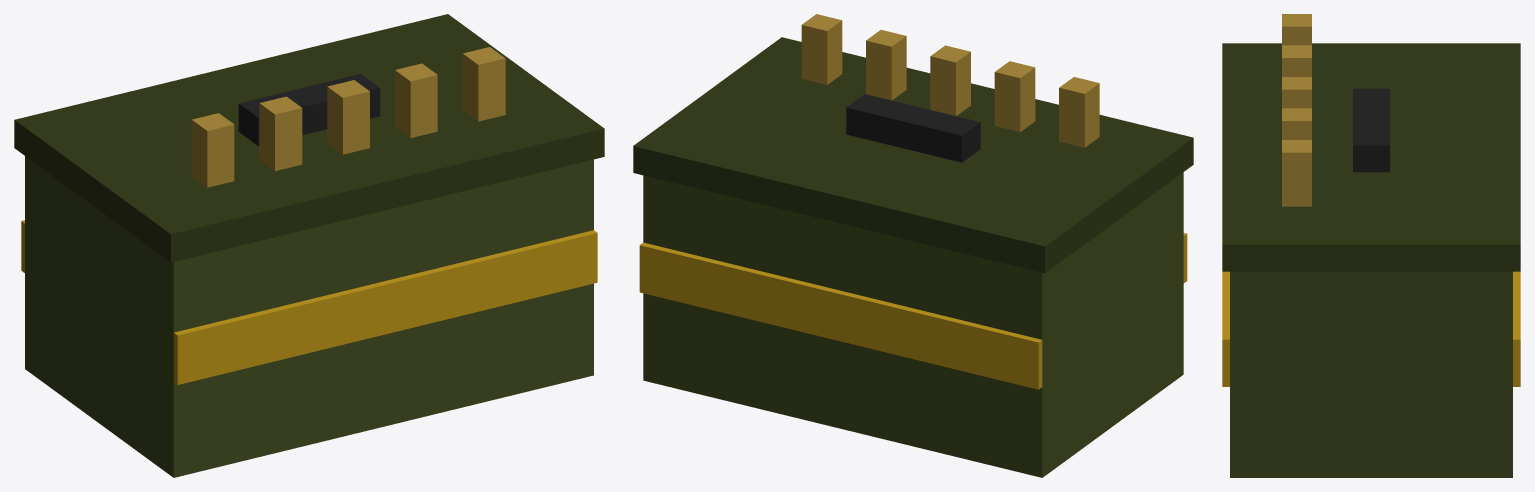
File: ammo_box.glb
3 renders of one model, left to right at view 1: azimuth 30°, elevation 25°; view 2: azimuth 150°, elevation 25°; view 3: azimuth 270°, elevation 25°, orthographic. The views are drawn at different scales.
Parts seen in each view (by area): view 1: Body; view 2: Body; view 3: Body.
Boxes of the visible parts, x1,y1,x2,y2 form: Body: (14, 14, 604, 477); Body: (633, 14, 1193, 477); Body: (1222, 14, 1520, 477).
Bounding box in the file's own units: 0.64 × 0.44 × 0.4.
